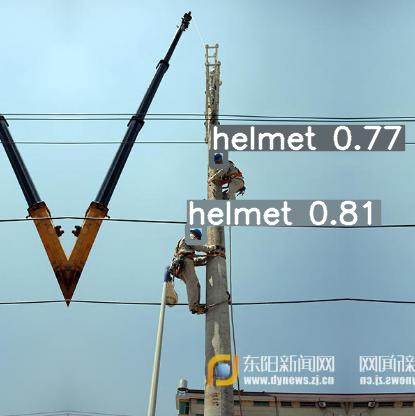helmet: (187, 225, 204, 242), (211, 150, 225, 166)
